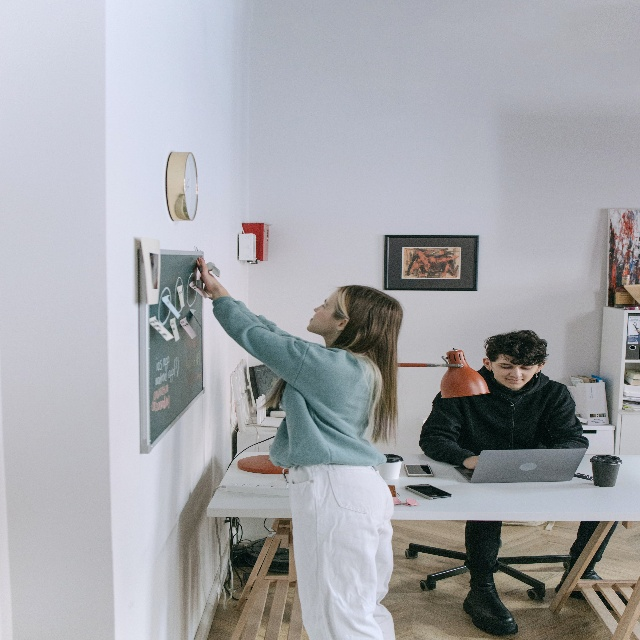Sin_guantes: (197, 257, 227, 298)
